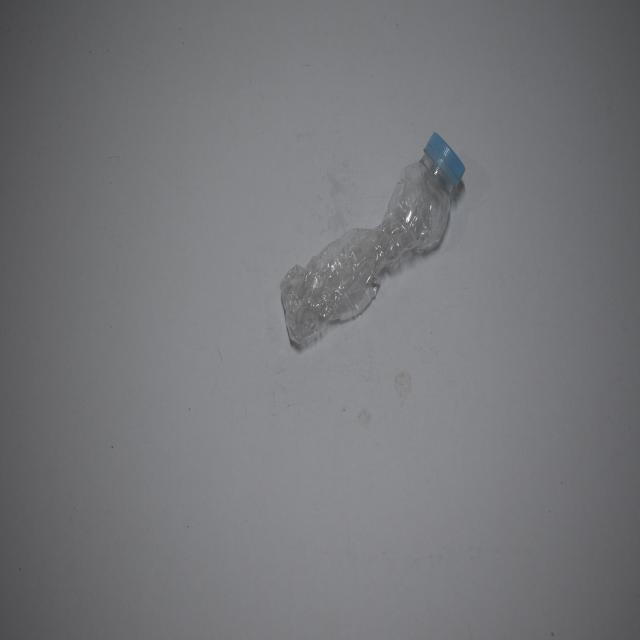bottle: (280, 109, 470, 380)
